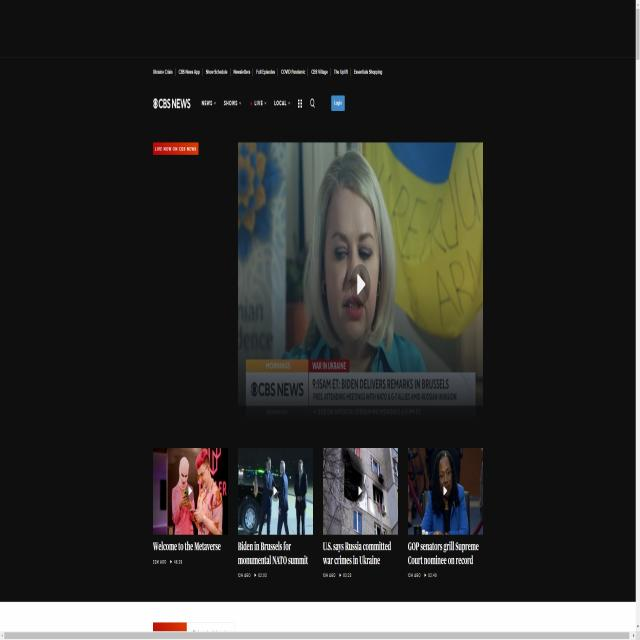tab-bar: (150, 92, 346, 114), (148, 64, 388, 81)
